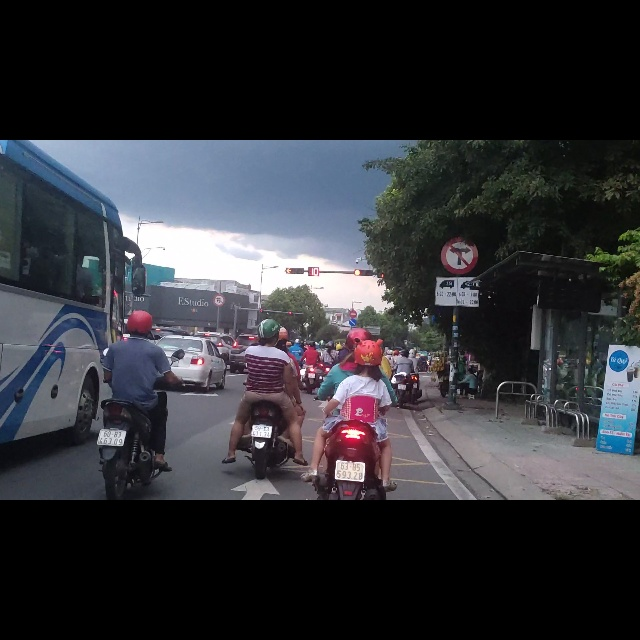bien_chi_dan: (440, 171, 478, 240), (434, 242, 480, 297), (213, 274, 225, 296), (348, 317, 357, 332), (349, 302, 357, 316)
